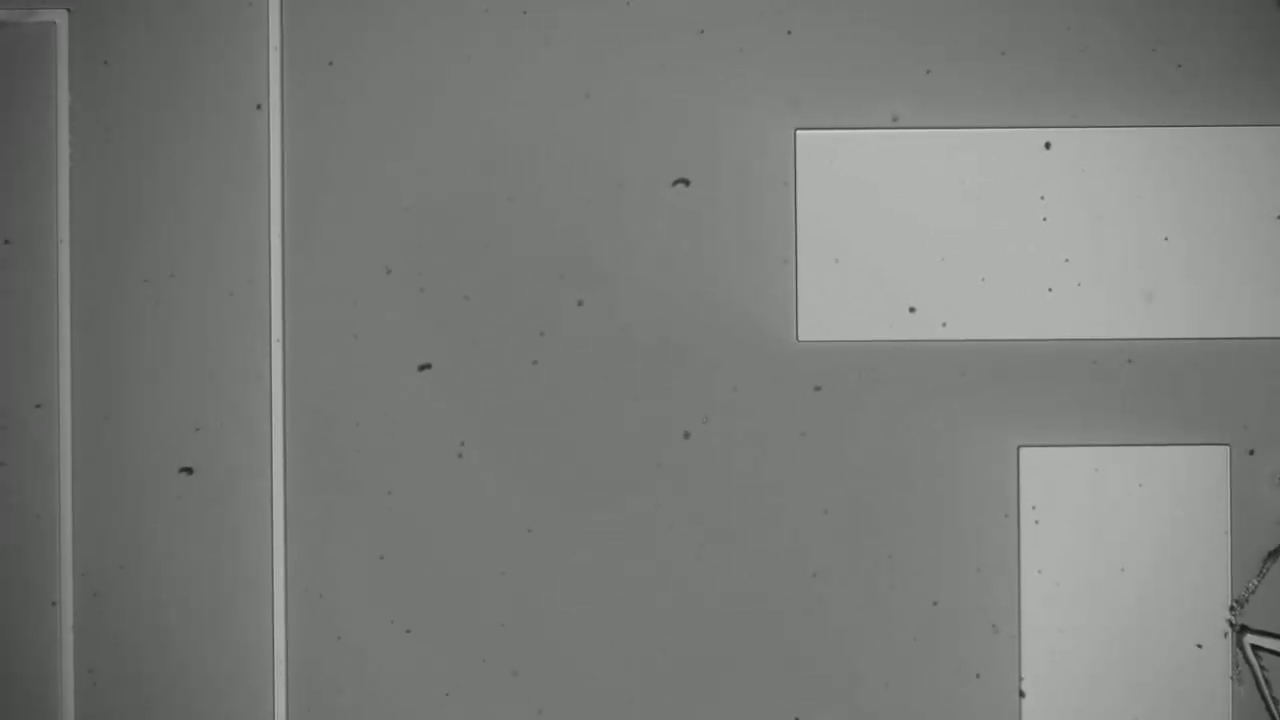Short_circuit: (1206, 614, 1280, 679)
